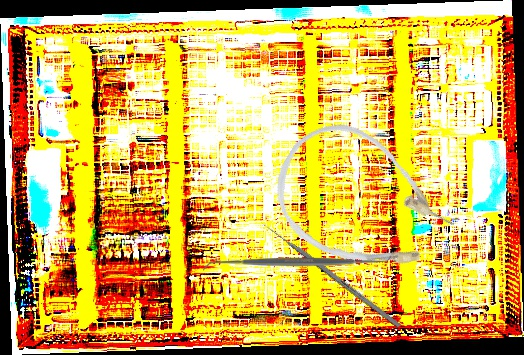Cannula: (255, 104, 471, 303)
Pusher: (259, 219, 402, 329)
Spatula Surgical: (203, 252, 391, 273)
